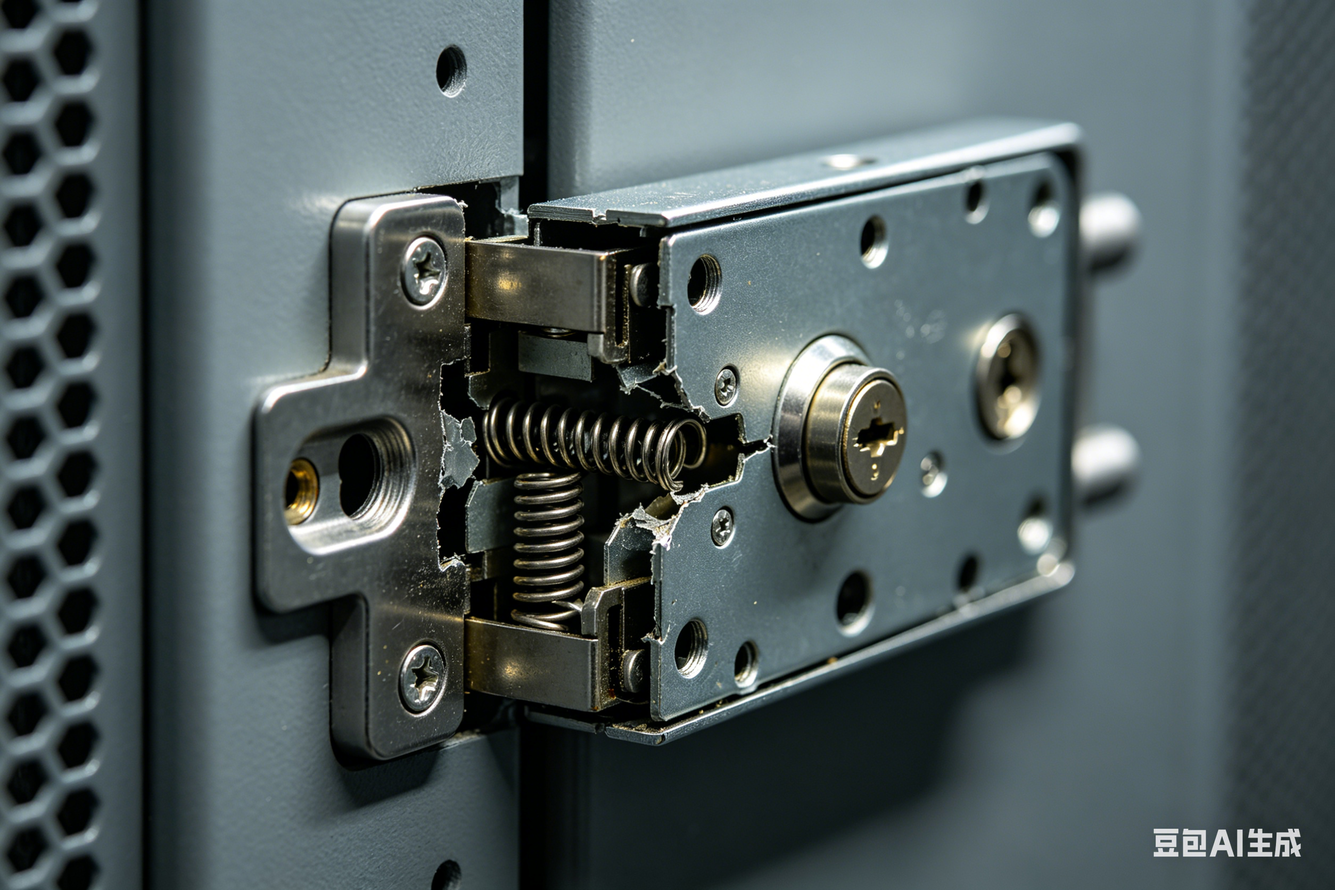BadLock: (400, 301, 770, 610)
